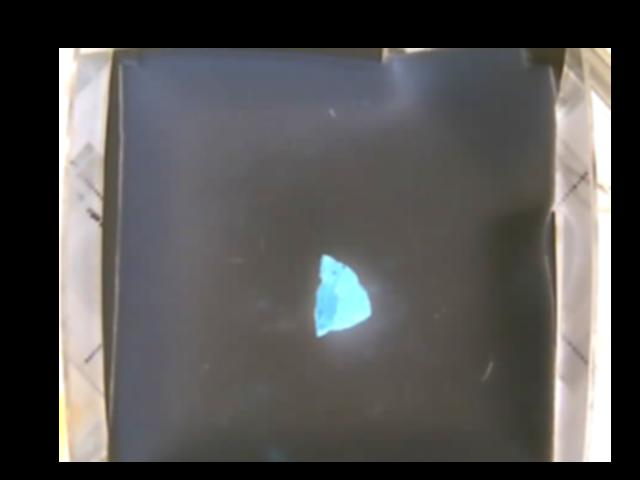Brisk: (315, 253, 373, 338)
